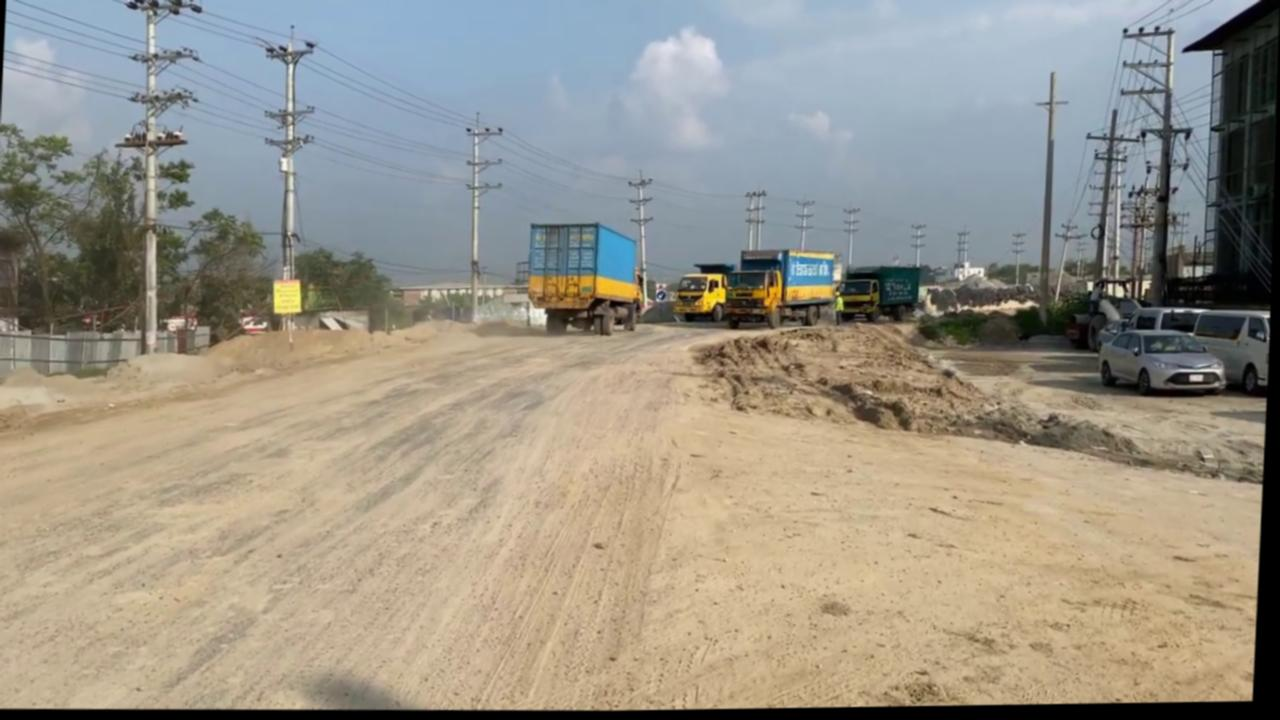Fence: (0, 321, 212, 382)
Muddy road: (713, 316, 1037, 443)
Pole: (109, 0, 203, 355), (252, 27, 319, 346), (1027, 73, 1070, 327), (458, 113, 506, 325), (624, 170, 656, 309)
Traffic-light: (273, 279, 305, 316)
Tree: (673, 247, 924, 334), (524, 220, 646, 339), (726, 249, 840, 333), (1066, 280, 1145, 356), (838, 266, 924, 326), (673, 263, 736, 325), (835, 280, 884, 326)
